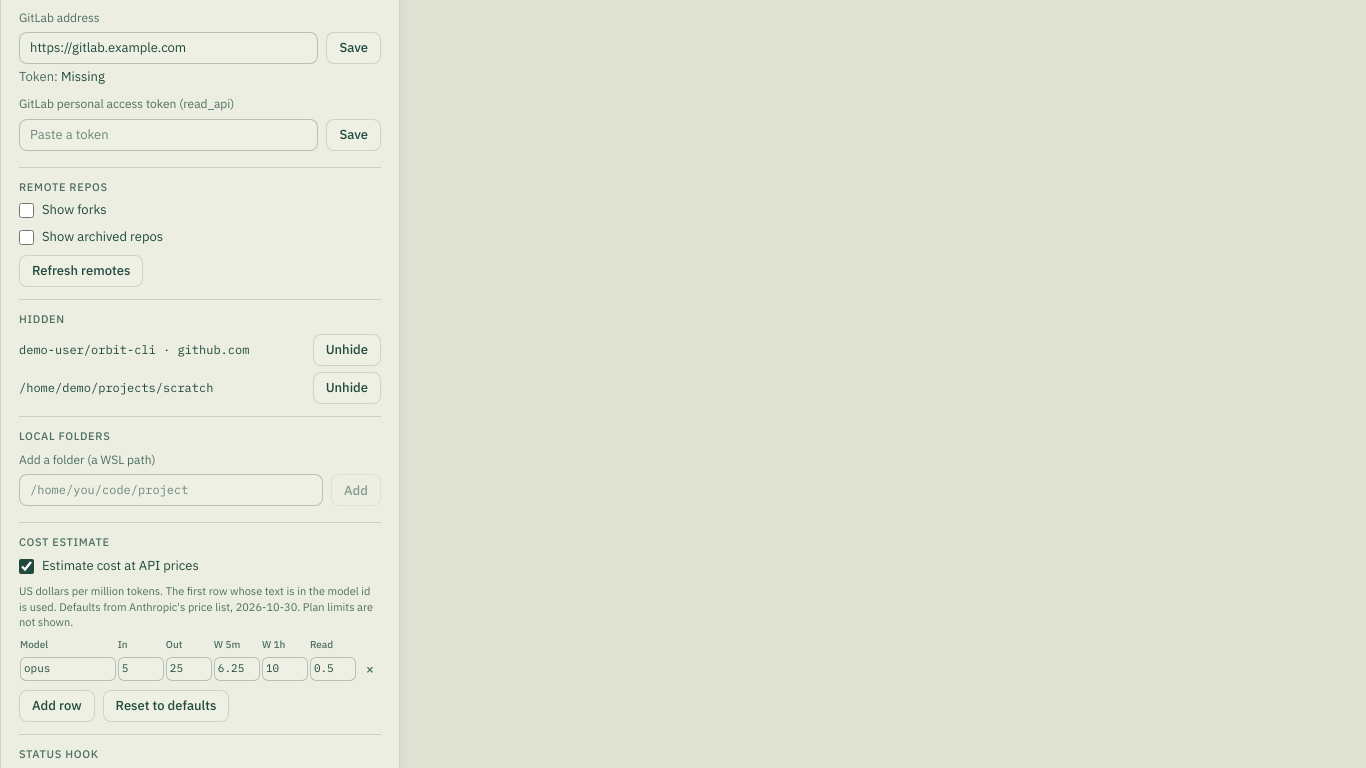
Scenario: SettingsPanel › cost estimate › keeps edits as a draft and saves them as numbers
(page scrolled)
Expected: the number of rows is 2, [19,638,381,656]; [19,656,381,682]
Replace the text in the field named "Row 1 input price" with " 4.5 " at (141,669), box [118,657,164,681]
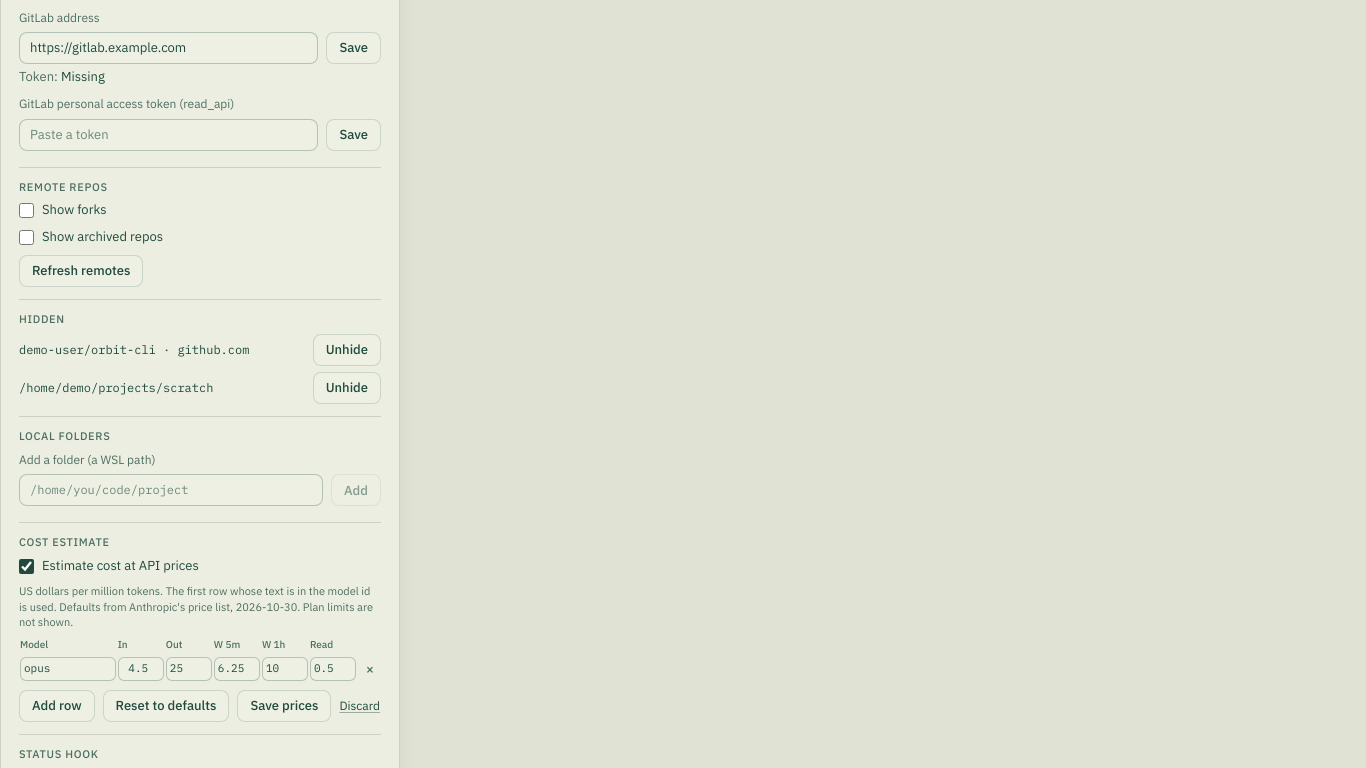
Click the button "Add row".
click(57, 706)  # box [19,690,95,722]
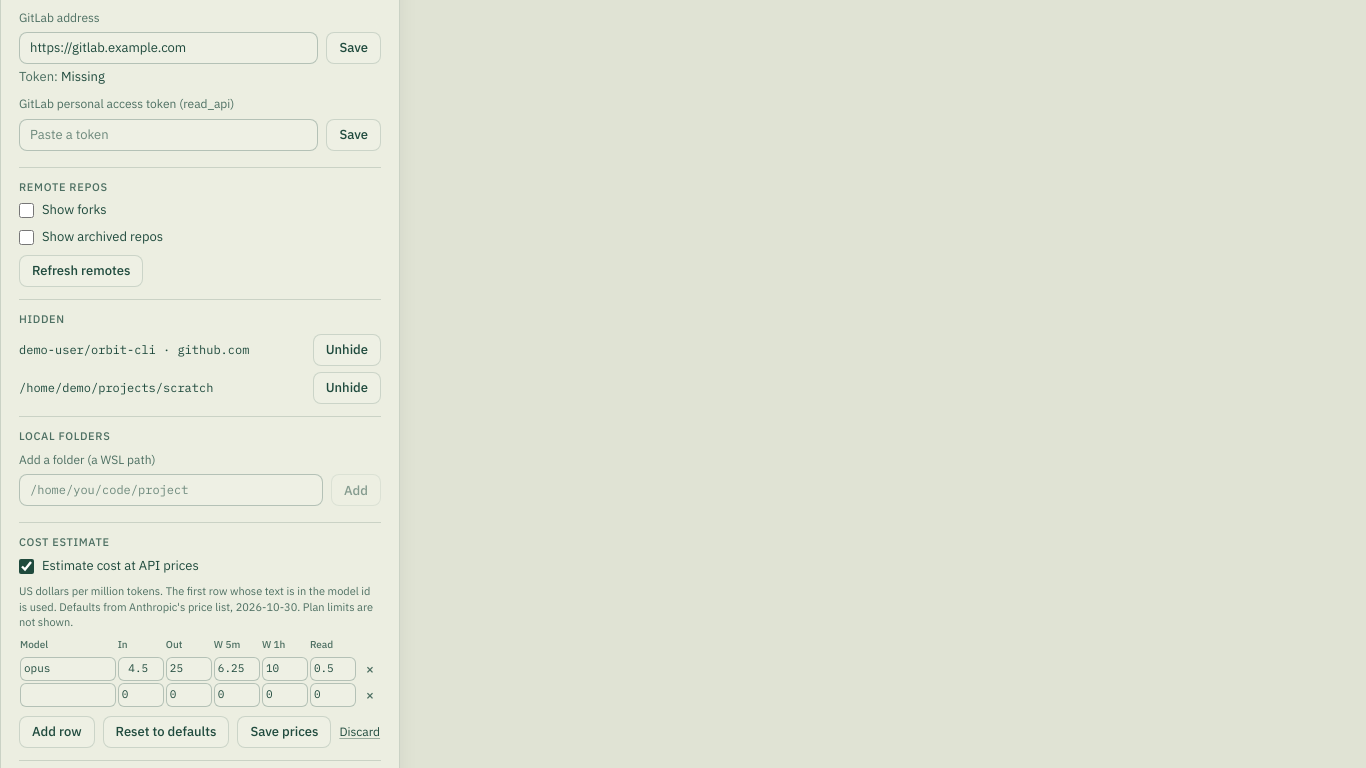
Type " Haiku " into the field named "Row 2 model match".
click(68, 695); type(" Haiku ")  # box [20,683,116,707]
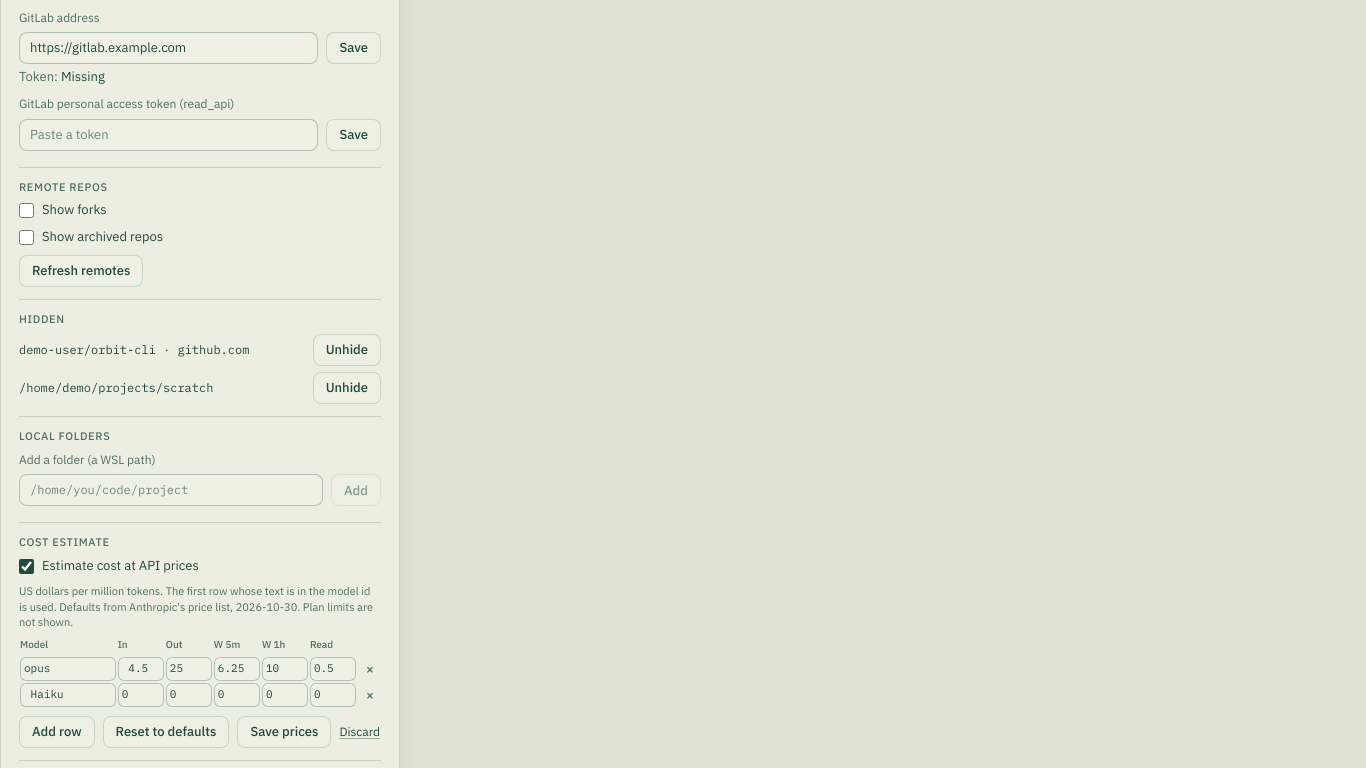
Replace the text in the field named "Row 2 cache read price" with "0.01" at (333,695), box [310,683,356,707]
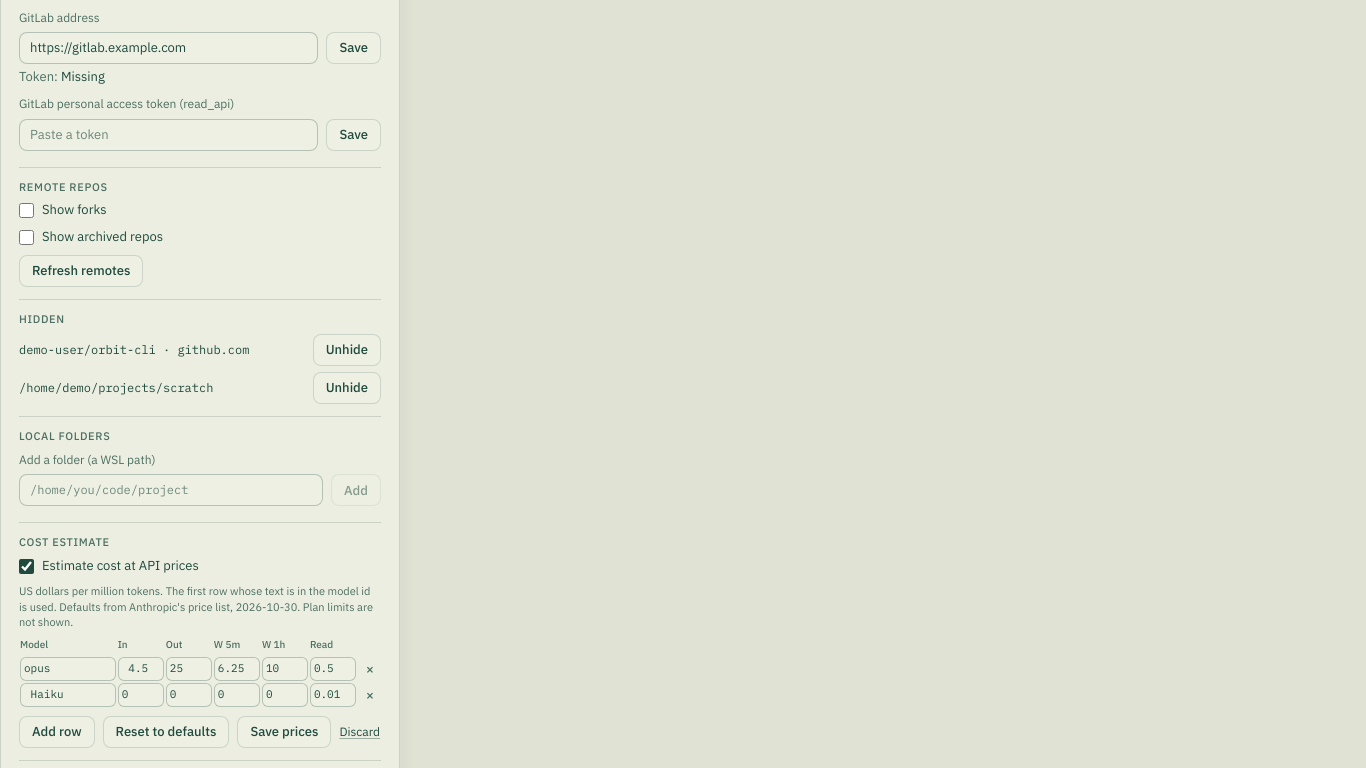
Click the button "Save prices".
click(284, 732)  # box [237,716,331,748]
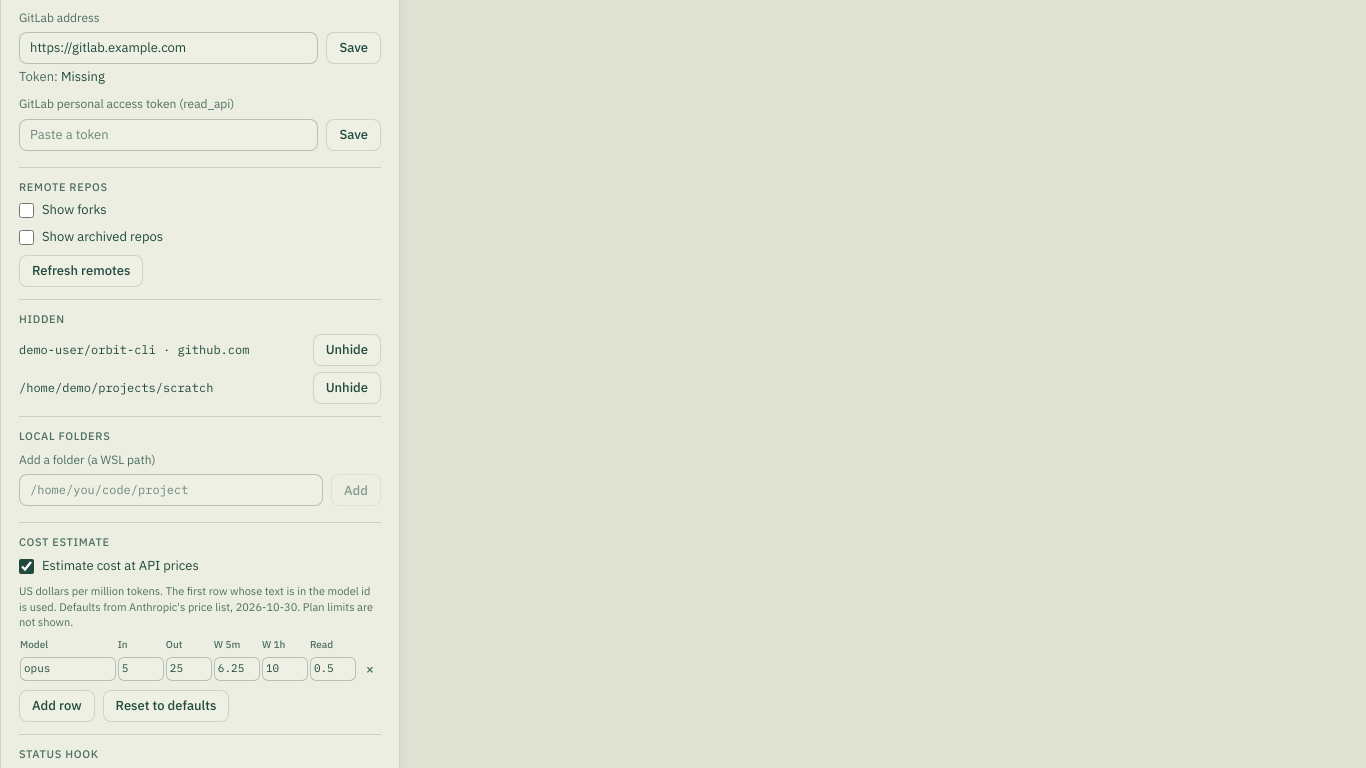
Expected: the button "Save prices" is gone
